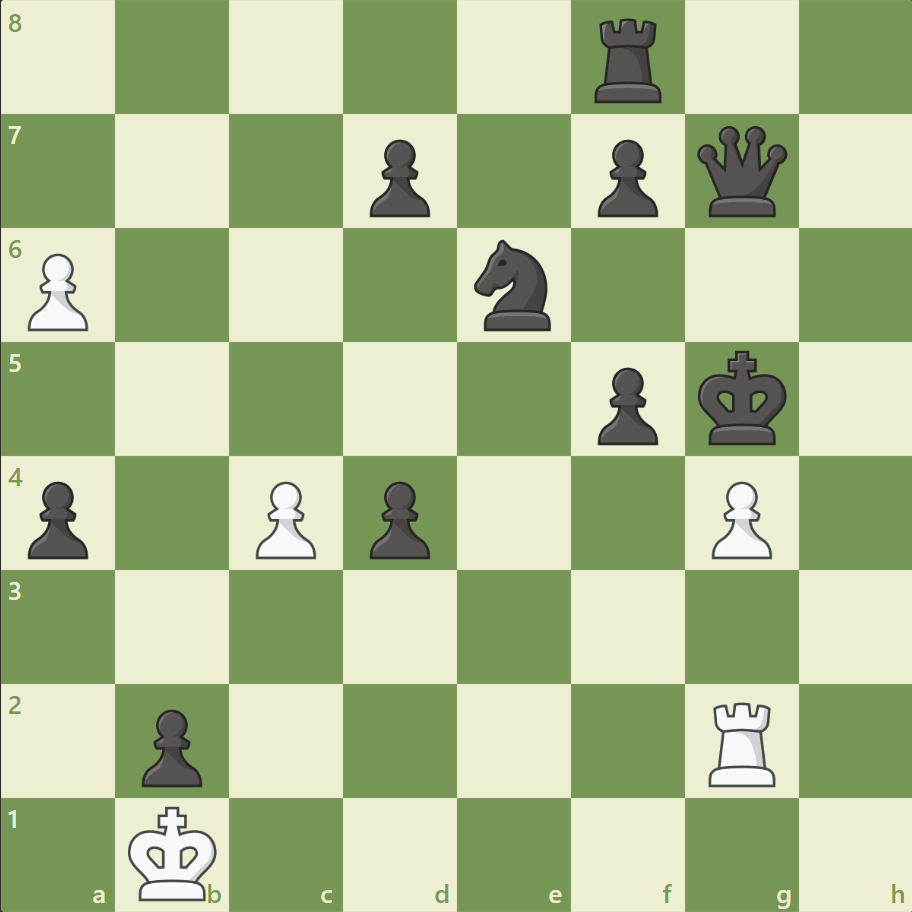K: (124, 798, 224, 906)
P: (20, 246, 95, 337), (247, 473, 322, 564), (701, 473, 776, 564)
R: (700, 693, 783, 790)
k: (692, 344, 792, 452)
n: (465, 234, 562, 337)
p: (20, 473, 95, 564), (133, 700, 208, 791), (361, 132, 435, 223), (588, 132, 662, 223), (588, 359, 662, 450), (361, 473, 435, 564)
q: (691, 122, 790, 222)
r: (587, 12, 670, 109)
